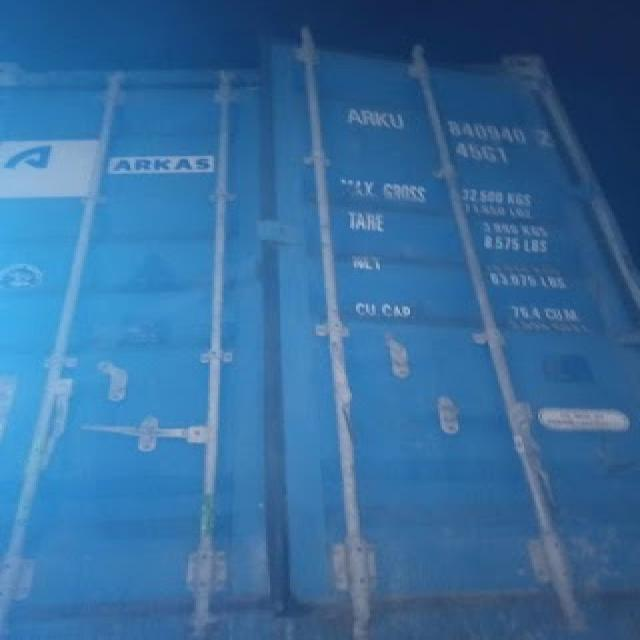ISO: (453, 139, 522, 169)
container_number: (350, 106, 558, 152)
